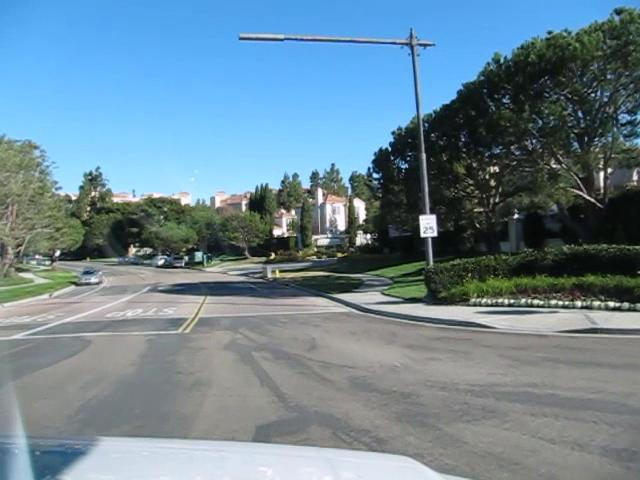speedLimit25: (418, 213, 438, 238)
